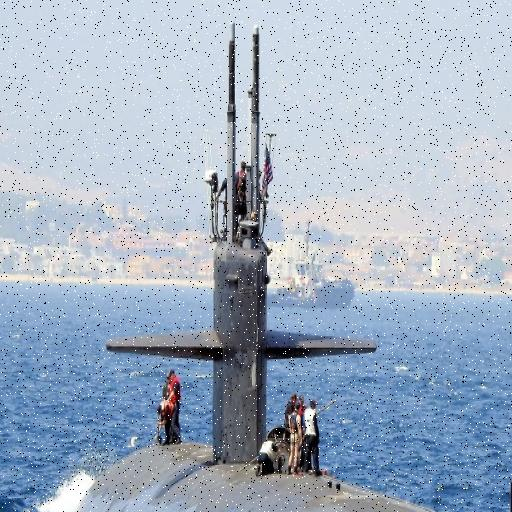submarine: (77, 17, 512, 512)
